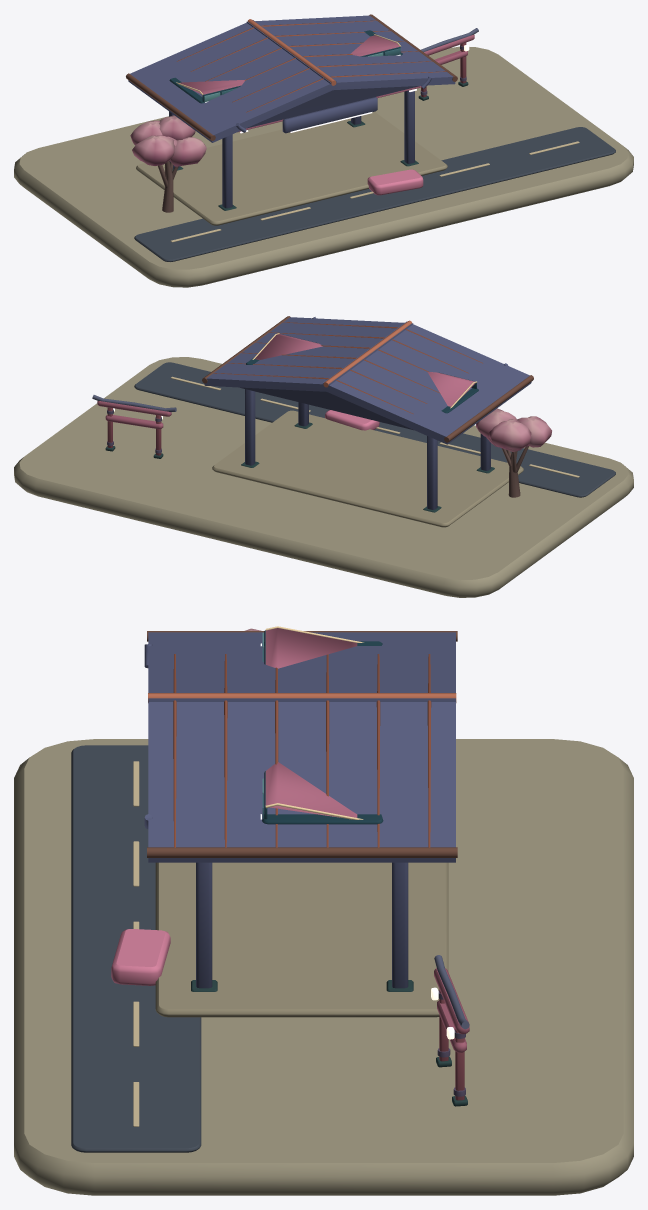
File: japan_atlas.glb
3 renders of one model, top to bottom at view 1: azimuth 30°, elevation 25°; view 2: azimuth 150°, elevation 25°; view 3: azimuth 270°, elevation 25°, orthographic. The views are drawn at different scales.
Visible parts, largest first — view 1: JapanAtlas; view 2: JapanAtlas; view 3: JapanAtlas.
Part boxes in pixels (bbox=[...]): JapanAtlas: bbox=[14, 14, 633, 287]; JapanAtlas: bbox=[14, 316, 633, 597]; JapanAtlas: bbox=[14, 626, 633, 1195].
Size of the model in its own units: 10.8 by 2.98 by 6.54.
